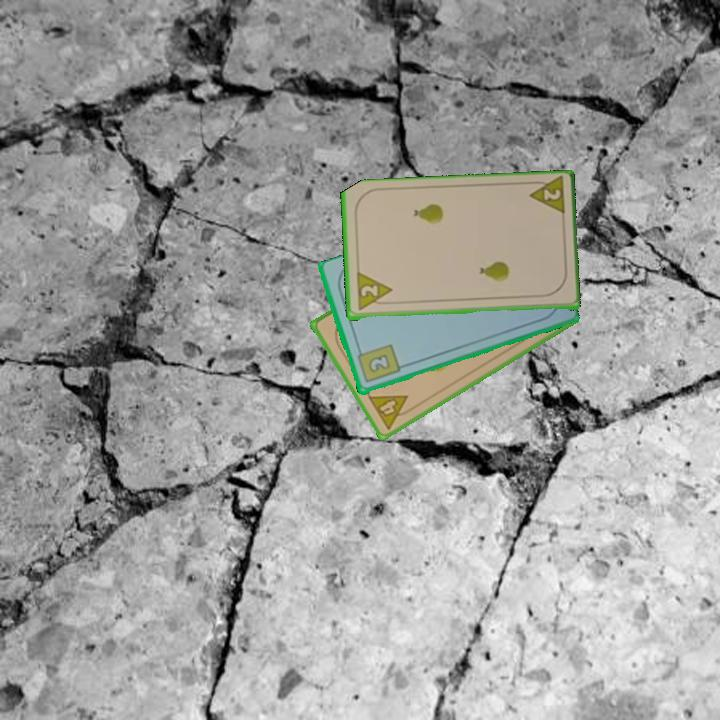2b: (353, 341, 403, 386)
2p: (524, 175, 567, 220), (353, 270, 395, 314)
4p: (364, 391, 417, 432)
